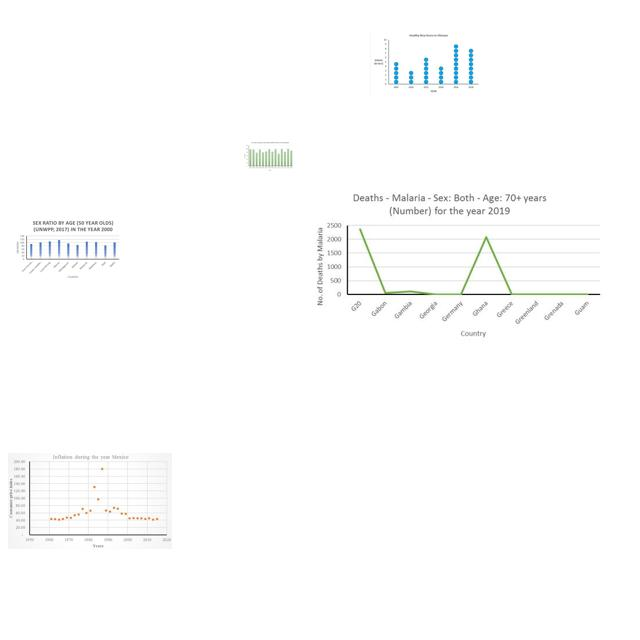Graph: (316, 187, 603, 342), (8, 453, 172, 549), (370, 31, 481, 96), (13, 219, 122, 280), (243, 141, 295, 172)
